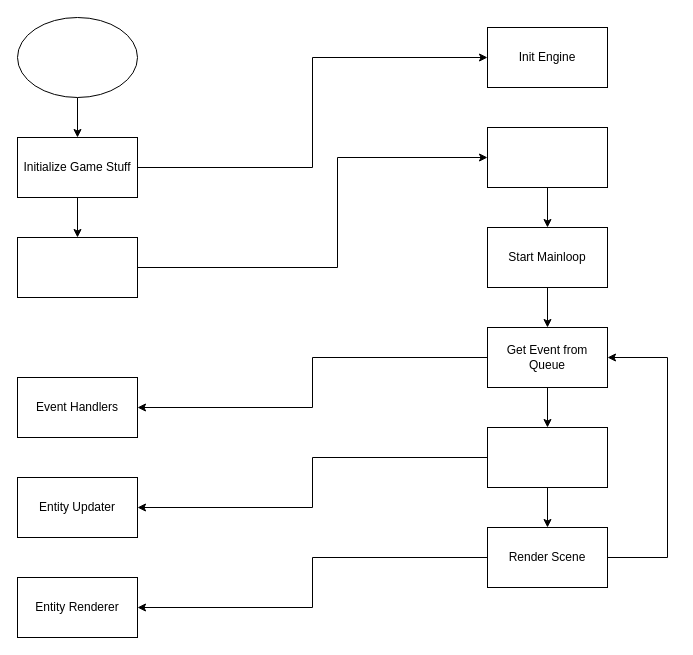
Image size: 693x655. Some labels were removed from this diagram. The centre of each missing label's shape, as x and y in pixels:
"Game Start" belongs at point 77,57.
"Get Start scene" belongs at point 77,267.
"Load Scene" belongs at point 547,157.
"Update Scene" belongs at point 547,457.
